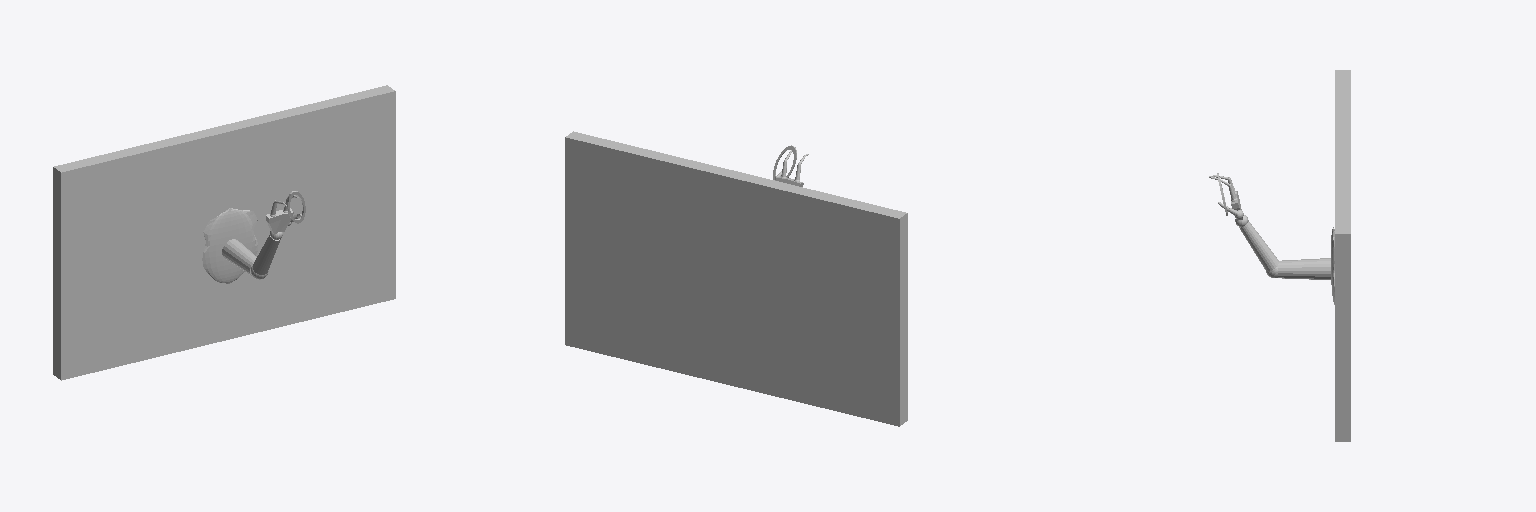
The model's file is Robot Arm Model with Texture.obj.
The picture shows the model from 3 angles: view 1: azimuth 30°, elevation 25°; view 2: azimuth 150°, elevation 25°; view 3: azimuth 270°, elevation 25°; orthographic projection.
Visible parts, largest first — view 1: pCube3, polySurface52 polySurface42, polySurface42 polySurface58 polySurface66, polySurface42 polySurface58 polySurface69 polySurface47 polySurf, polySurface42 polySurface58 polySurface69; view 2: pCube3; view 3: pCube3, polySurface42 polySurface58 polySurface66, polySurface42 polySurface58 polySurface69.
Boxes of the visible parts, box(x1,y1,x2,y2) form: pCube3: box(53, 85, 395, 380); polySurface52 polySurface42: box(202, 208, 257, 283); polySurface42 polySurface58 polySurface66: box(222, 239, 256, 275); polySurface42 polySurface58 polySurface69 polySurface47 polySurf: box(266, 195, 301, 234); polySurface42 polySurface58 polySurface69: box(253, 235, 280, 274); pCube3: box(565, 131, 907, 426); pCube3: box(1335, 70, 1350, 441); polySurface42 polySurface58 polySurface66: box(1278, 258, 1330, 279); polySurface42 polySurface58 polySurface69: box(1239, 220, 1278, 271).
Bounding box in the file's own units: 24.02 × 14.28 × 8.86.